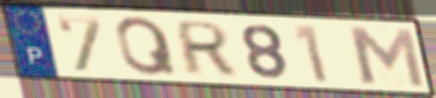1: (292, 23, 331, 84)
7: (55, 12, 105, 74)
8: (239, 23, 291, 80)
M: (344, 24, 429, 89)
Q: (113, 15, 181, 77)
R: (175, 19, 238, 76)
